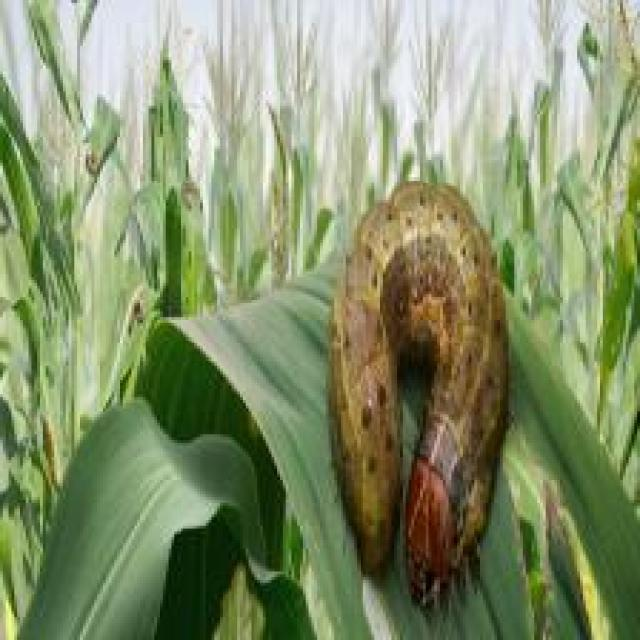Plaga: (309, 127, 524, 632)
